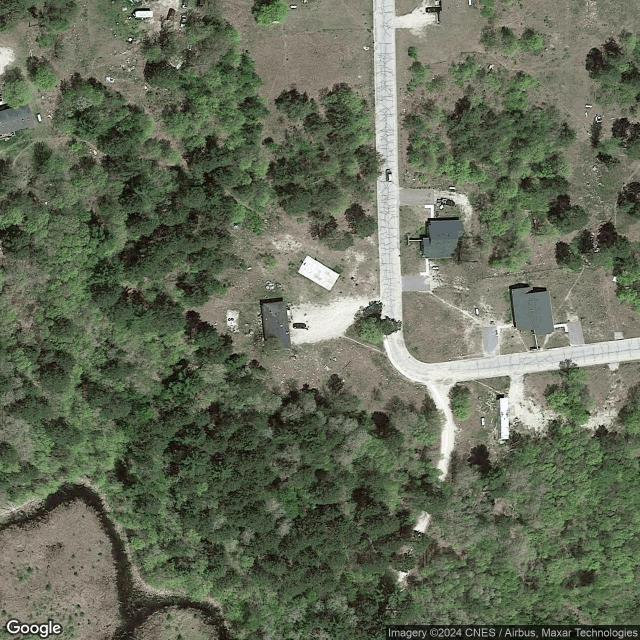Propane: (36, 112, 44, 123), (480, 416, 486, 426), (475, 307, 480, 316), (289, 4, 298, 9), (449, 185, 457, 190), (431, 266, 440, 270), (584, 104, 593, 108), (468, 0, 472, 7)
